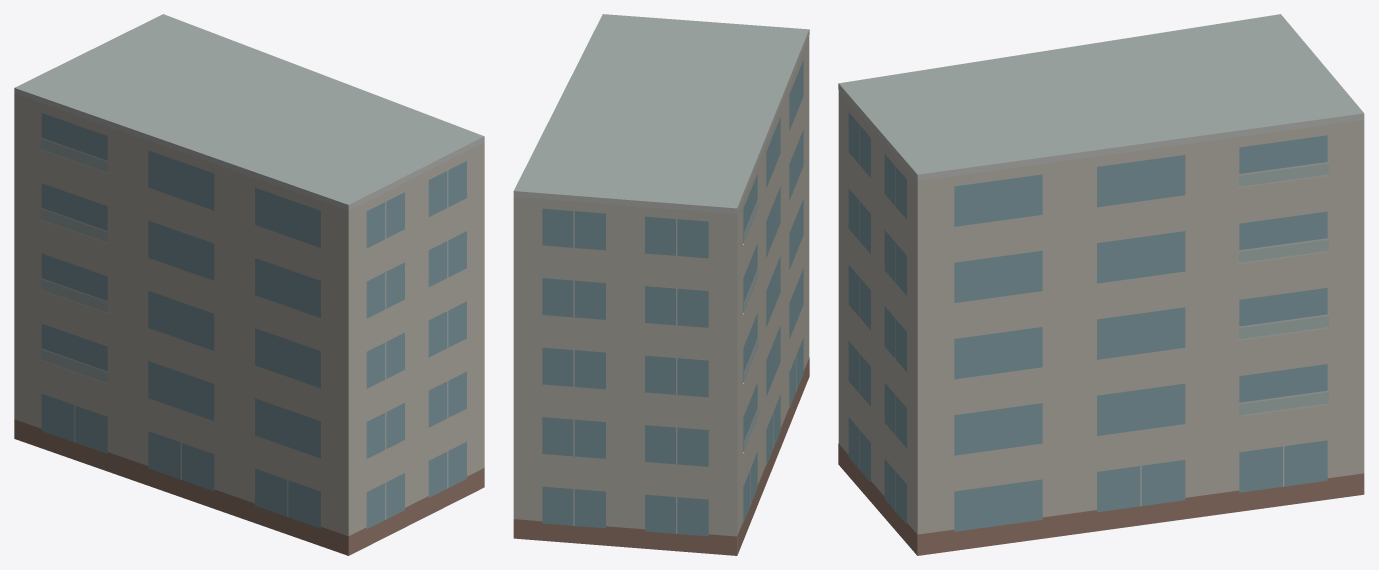
File: survey-upis-32740085.glb
The picture shows the model from 3 angles, left to right: view 1: azimuth 30°, elevation 25°; view 2: azimuth 150°, elevation 25°; view 3: azimuth 270°, elevation 25°; orthographic projection. The views are drawn at different scales.
Parts seen in each view (by area): view 1: survey-upis-32740085.tmp; view 2: survey-upis-32740085.tmp; view 3: survey-upis-32740085.tmp.
Boxes of the visible parts, x1=… form: survey-upis-32740085.tmp: x1=14, y1=14, x2=484, y2=555; survey-upis-32740085.tmp: x1=513, y1=14, x2=809, y2=555; survey-upis-32740085.tmp: x1=838, y1=14, x2=1364, y2=555.
Bounding box in the file's own units: 13.2 × 14.6 × 18.26.
